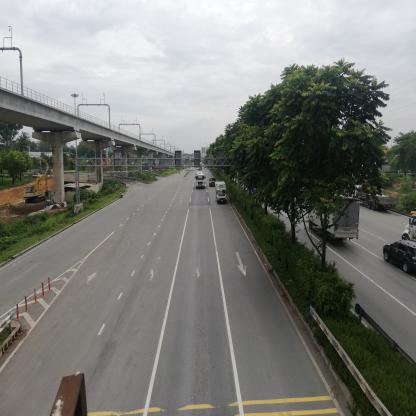car: (382, 239, 416, 278), (211, 178, 217, 187)
motorbike: (121, 190, 124, 199)
truck: (310, 195, 361, 244), (215, 183, 228, 204), (196, 171, 206, 189)
